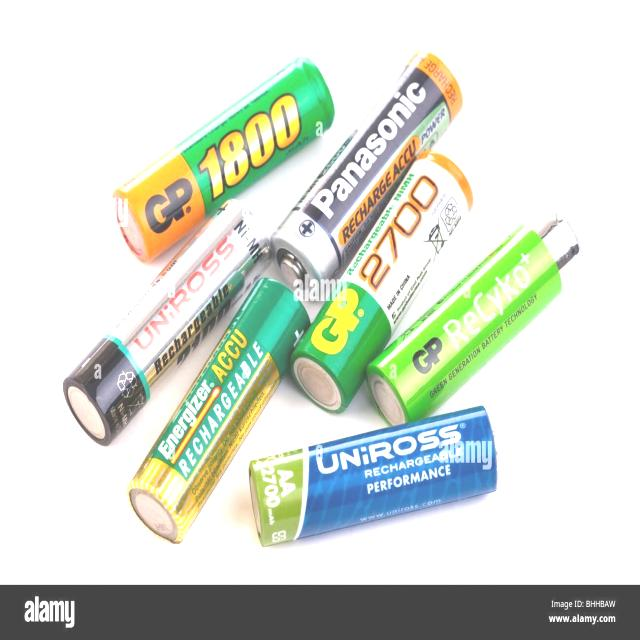AA: (59, 196, 278, 451), (124, 273, 315, 552), (267, 44, 468, 304), (365, 199, 588, 429), (288, 147, 477, 418), (110, 53, 339, 269), (248, 401, 503, 550)
